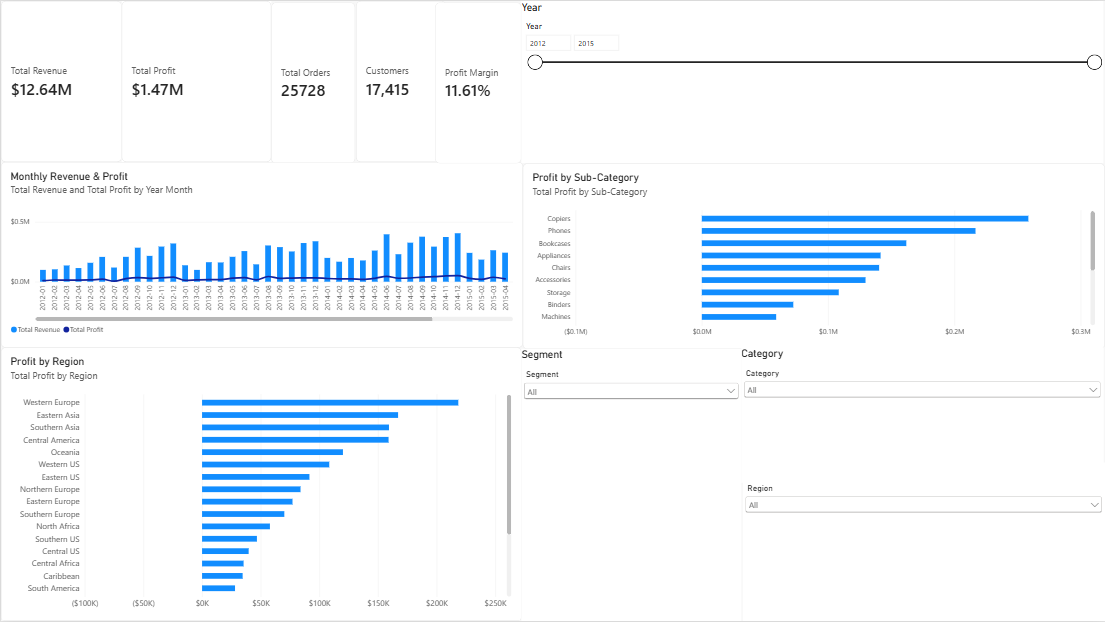

The page's visual inventory and layout, read from the dashboard file:
{"tool":"powerbi","page":{"name":"Executive Overview","canvas":[1920,1080],"ordinal":0},"visuals":[{"type":"cardVisual","fields":{"Data":["CLEAN_GlobalSuperstore_2016.Total Revenue"]},"box":[0,0,210,280],"z":0},{"type":"cardVisual","fields":{"Data":["CLEAN_GlobalSuperstore_2016.Total Profit"]},"box":[210,0,260,280],"z":1000},{"type":"cardVisual","fields":{"Data":["CLEAN_GlobalSuperstore_2016.Total Orders"]},"box":[470,2.5,146.7,280],"z":2000},{"type":"cardVisual","fields":{"Data":["CLEAN_GlobalSuperstore_2016.Total Customers"]},"box":[617.5,0,157.5,280],"z":3000},{"type":"lineClusteredColumnComboChart","title":"Monthly Revenue & Profit","fields":{"Category":["DateTable.Year Month"],"Y":["CLEAN_GlobalSuperstore_2016.Total Revenue"],"Y2":["CLEAN_GlobalSuperstore_2016.Total Profit"]},"box":[0,280,907.5,322.5],"z":4000},{"type":"clusteredBarChart","title":"Profit by Sub-Category","fields":{"Category":["CLEAN_GlobalSuperstore_2016.Sub-Category"],"Y":["CLEAN_GlobalSuperstore_2016.Total Profit"]},"box":[907.5,282.5,1012.5,322.5],"z":5000},{"type":"clusteredBarChart","title":"Profit by Region","fields":{"Category":["CLEAN_GlobalSuperstore_2016.Region"],"Y":["CLEAN_GlobalSuperstore_2016.Total Profit"]},"box":[0,602.5,905,477.5],"z":6000},{"type":"slicer","title":"Year","fields":{"Values":["DateTable.Year"]},"box":[905,0,1012.5,280],"z":7000},{"type":"slicer","title":"Region","fields":{"Values":["CLEAN_GlobalSuperstore_2016.Region"]},"box":[1290,802.5,630,277.5],"z":8000},{"type":"slicer","title":"Category","fields":{"Values":["CLEAN_GlobalSuperstore_2016.Category"]},"box":[1287.5,602.5,630,235],"z":9000},{"type":"slicer","title":"Segment","fields":{"Values":["CLEAN_GlobalSuperstore_2016.Segment"]},"box":[905,605,382.5,475],"z":10000},{"type":"cardVisual","fields":{"Data":["CLEAN_GlobalSuperstore_2016.Profit Margin"]},"box":[755,2.5,150,280],"z":11000}]}

Visuals, with their boxes in screenshot pixels (x1, y1, x2, y2), scaled from the page's 1920x1080 canvas onto the 1105x622 screenshot:
cardVisual - CLEAN_GlobalSuperstore_2016.Total Revenue: bbox=[0, 0, 121, 161]
cardVisual - CLEAN_GlobalSuperstore_2016.Total Profit: bbox=[121, 0, 270, 161]
cardVisual - CLEAN_GlobalSuperstore_2016.Total Orders: bbox=[270, 1, 355, 163]
cardVisual - CLEAN_GlobalSuperstore_2016.Total Customers: bbox=[355, 0, 446, 161]
"Monthly Revenue & Profit" lineClusteredColumnComboChart: bbox=[0, 161, 522, 347]
"Profit by Sub-Category" clusteredBarChart: bbox=[522, 163, 1104, 348]
"Profit by Region" clusteredBarChart: bbox=[0, 347, 521, 621]
"Year" slicer: bbox=[521, 0, 1104, 161]
"Region" slicer: bbox=[742, 462, 1104, 621]
"Category" slicer: bbox=[741, 347, 1104, 482]
"Segment" slicer: bbox=[521, 348, 741, 621]
cardVisual - CLEAN_GlobalSuperstore_2016.Profit Margin: bbox=[435, 1, 521, 163]
